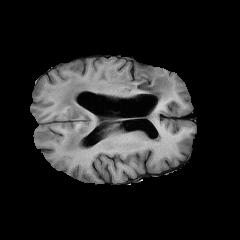glioma: (47, 69, 171, 151)
